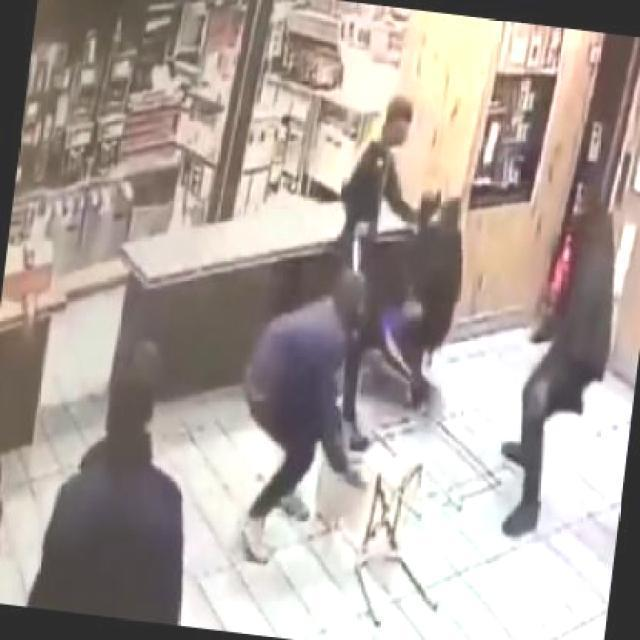fight: (320, 93, 480, 352)
